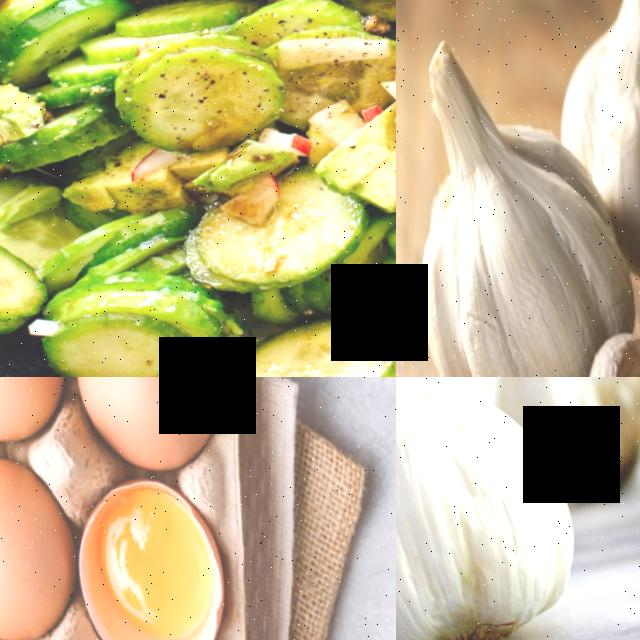cucumber: (220, 287, 396, 377)
egg_: (82, 463, 233, 640), (51, 377, 242, 488), (0, 438, 97, 640), (0, 377, 86, 467)
garlic: (396, 46, 640, 377), (396, 377, 605, 640), (554, 0, 640, 308)
